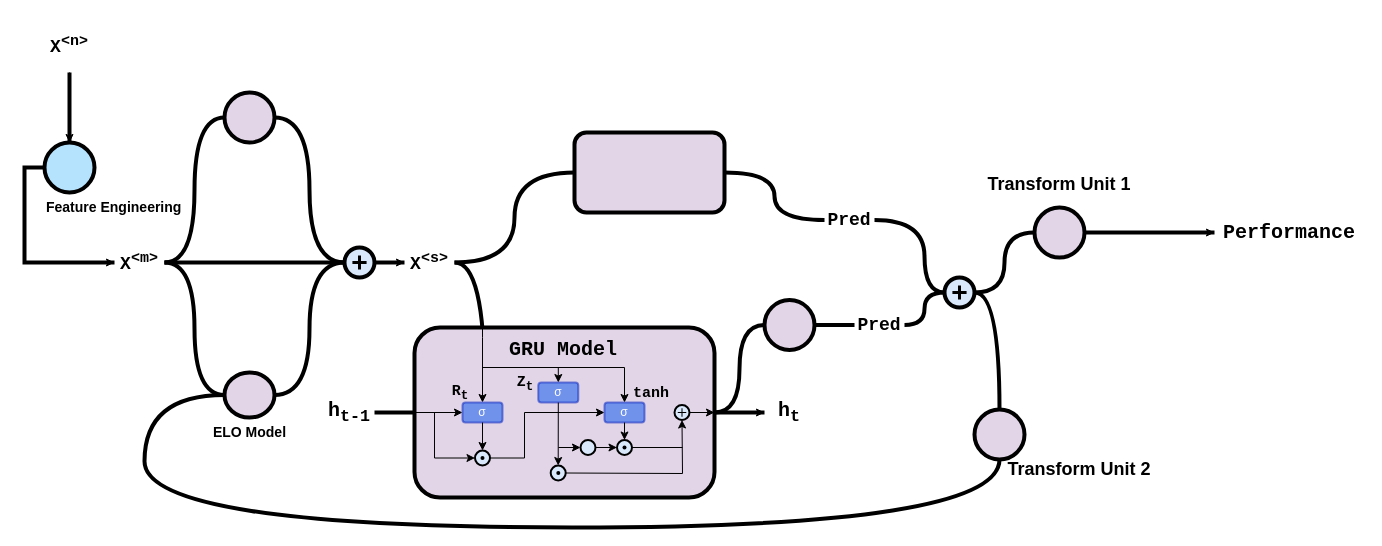
This 1382x546 diagram has some shape labels left out. Here are the shapes that lost their labels. From the top down, the centre of each, then its label:
At point 249,117: "Quality Model".
At point 649,172: "Lasso Regression".
At point 789,325: "FC Layer".
